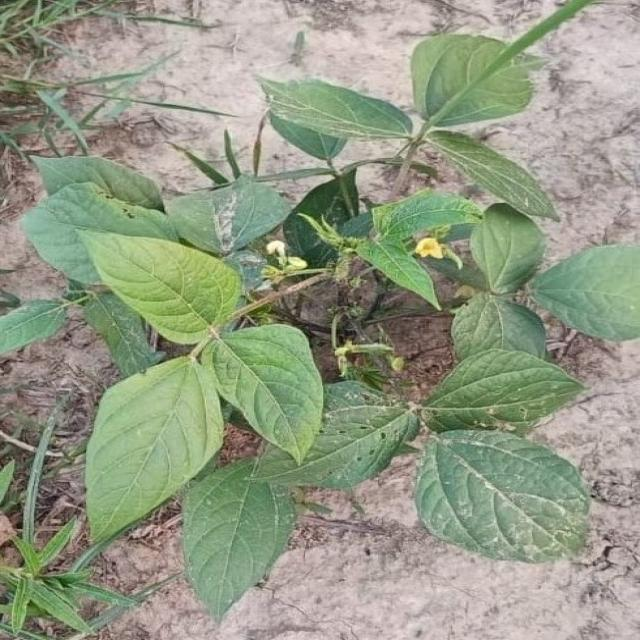plant: (22, 35, 640, 617)
